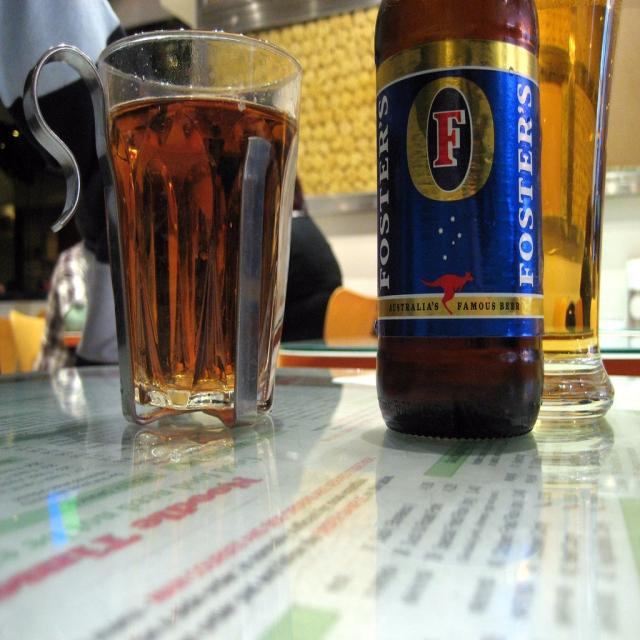fosters: (405, 73, 497, 204)
